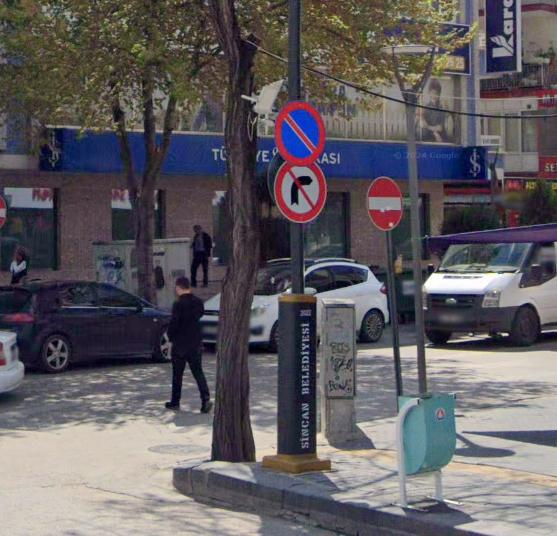rightturnsareforbidden: (271, 158, 333, 226)
